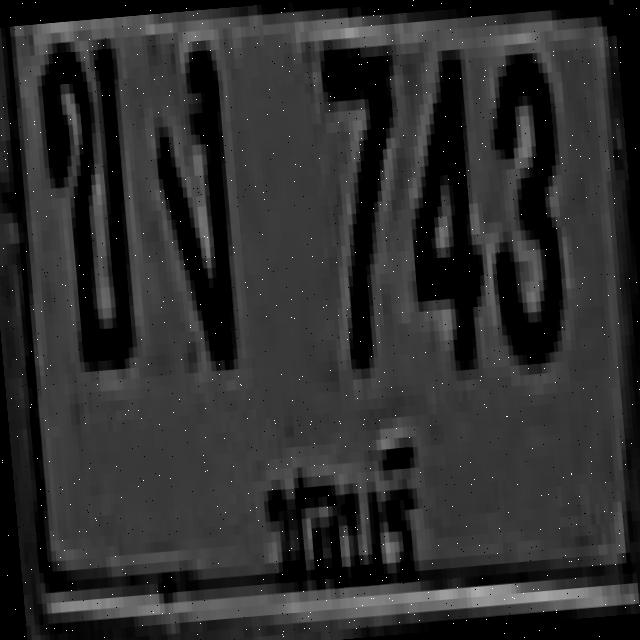11KhorKhai: (33, 28, 138, 364)
16NgorNgu: (142, 29, 238, 364)
3: (472, 41, 572, 356)
4: (391, 38, 486, 363)
7: (314, 34, 414, 360)
Chonburi: (253, 426, 430, 614)
